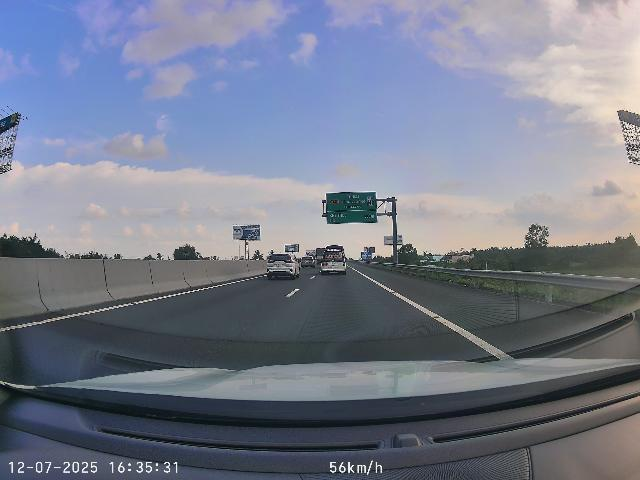438-ket-thuc-duong-cao-toc: (367, 196, 374, 206)
